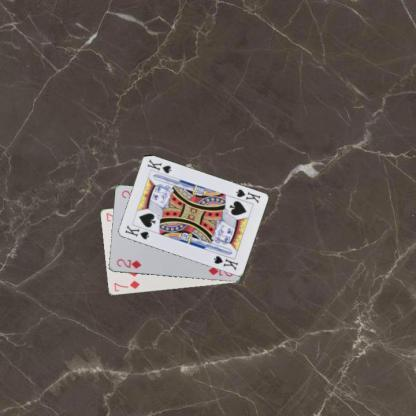2d: (114, 256, 142, 270)
7d: (112, 278, 140, 293)
Ks: (232, 186, 262, 204), (122, 222, 150, 240)
